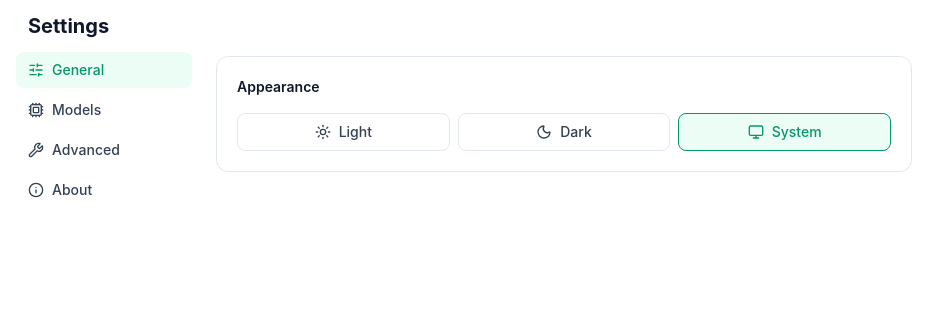
Settings sections › Models tab › renders the empty state when there are no models
The image size is (929, 335).
Click the button "Models" at x=104, y=110, box [16,92,192,128]
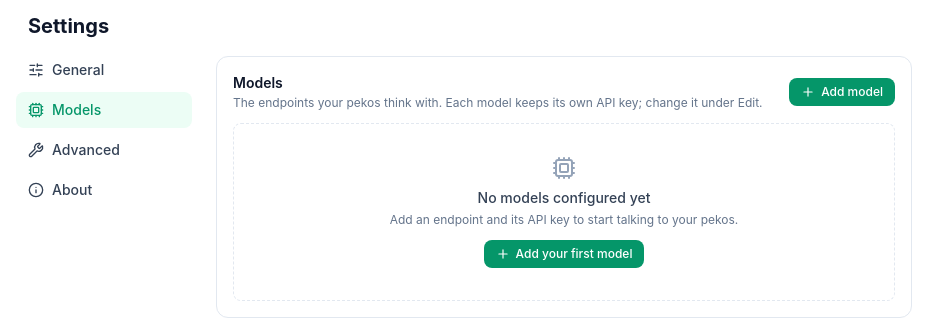
Expected: the element with test id "models-empty-state" is shown, [233,123,895,301]
